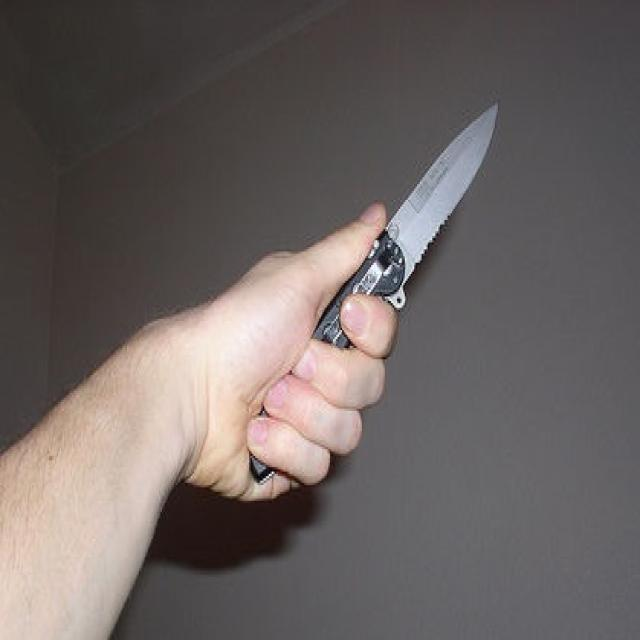knife: (364, 94, 511, 315)
